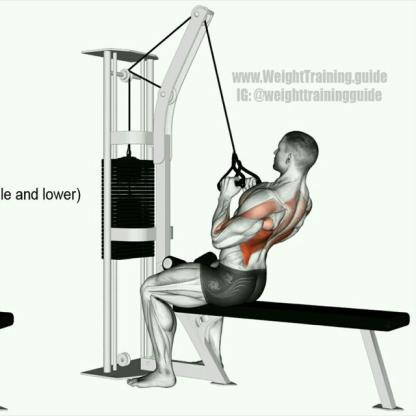Lat Pull Down: (72, 2, 413, 413)
